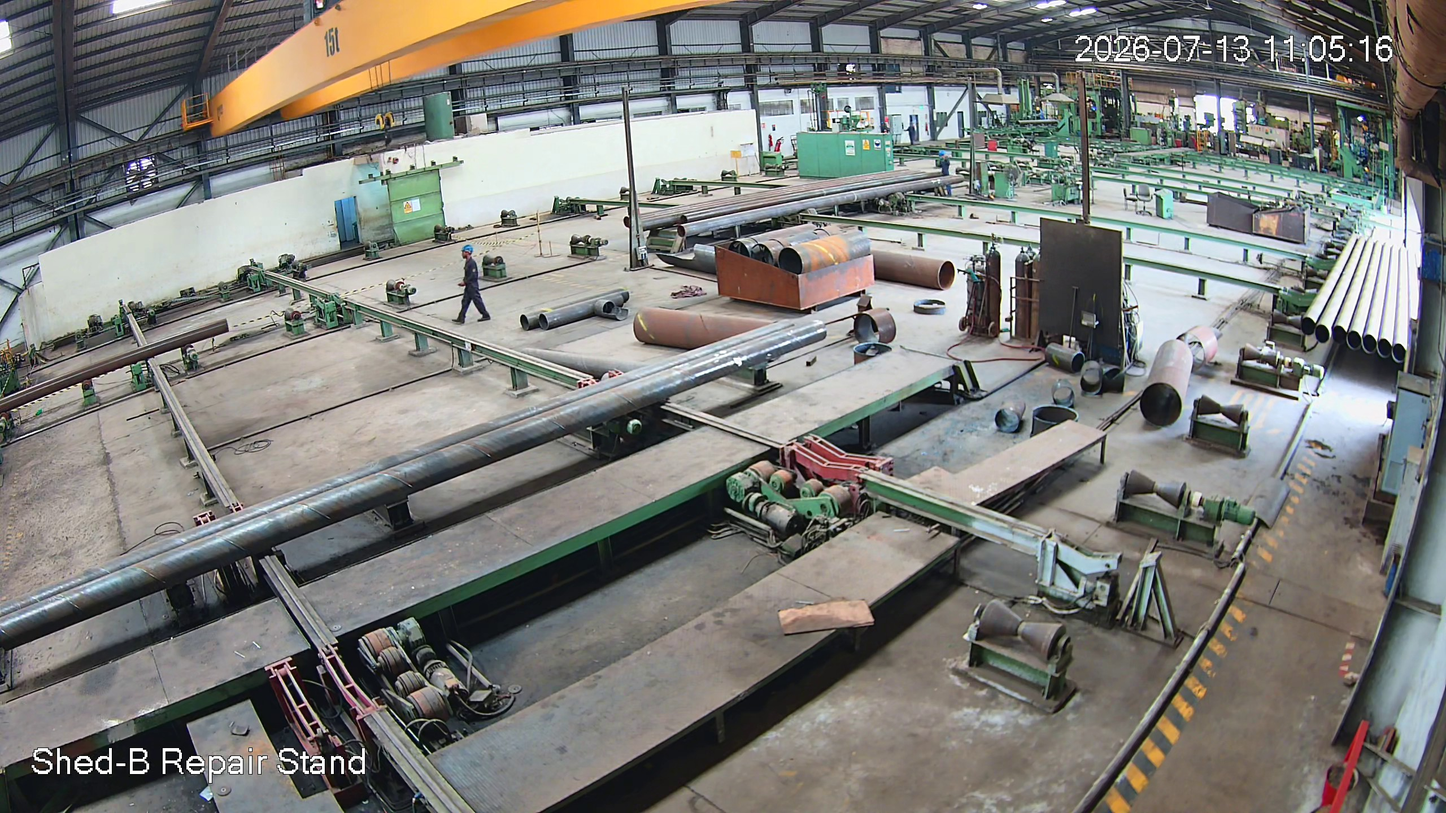Helmet: (459, 244, 477, 263)
Person: (456, 245, 488, 325)
